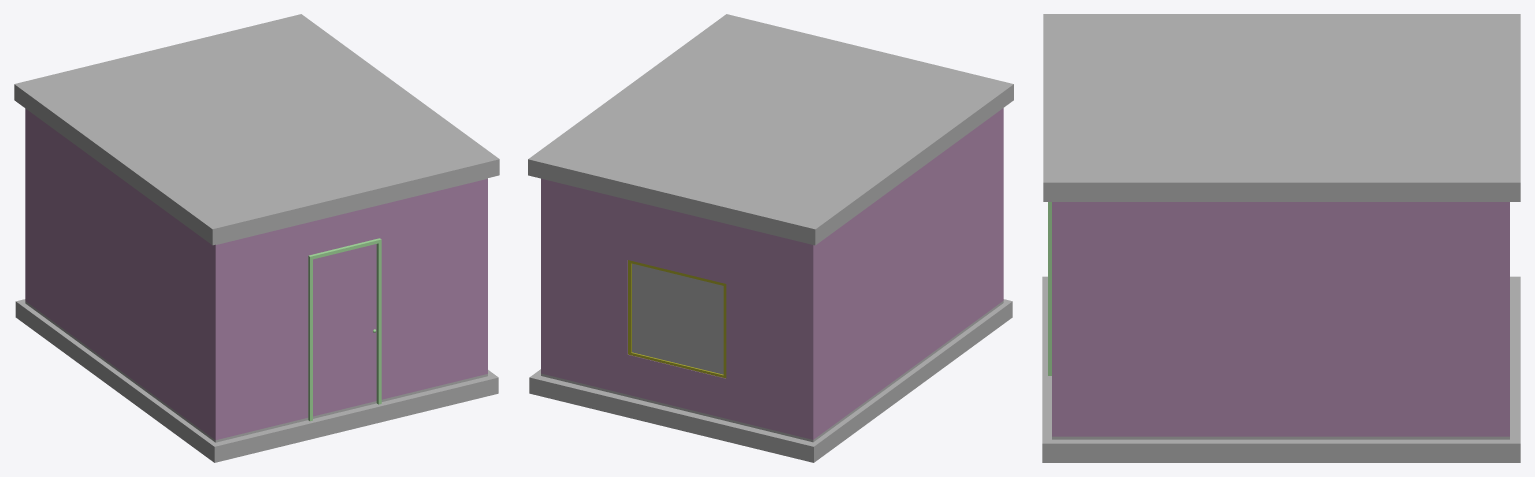
Rendered from FloorPlan305.fbx.
The picture shows the model from 3 angles, left to right: view 1: azimuth 30°, elevation 25°; view 2: azimuth 150°, elevation 25°; view 3: azimuth 270°, elevation 25°; orthographic projection. The views are drawn at different scales.
Parts seen in each view (by area): view 1: StandardWallSize.002, Ceiling.002, Floor.002, StandardDoorFrame1.002; view 2: StandardWallSize.002, Ceiling.002, Floor.002, StandardWindow3.001; view 3: StandardWallSize.002, Ceiling.002, Floor.002, StandardDoorFrame1.002.
Part boxes in pixels (bbox=[...]): StandardWallSize.002: bbox=[25, 108, 487, 442]; Ceiling.002: bbox=[14, 14, 499, 245]; Floor.002: bbox=[15, 299, 498, 462]; StandardDoorFrame1.002: bbox=[308, 238, 381, 421]; StandardWallSize.002: bbox=[541, 108, 1003, 442]; Ceiling.002: bbox=[528, 14, 1013, 245]; Floor.002: bbox=[529, 299, 1012, 462]; StandardWindow3.001: bbox=[628, 260, 726, 378]; StandardWallSize.002: bbox=[1052, 202, 1509, 439]; Ceiling.002: bbox=[1043, 14, 1520, 201]; Floor.002: bbox=[1042, 276, 1520, 462]; StandardDoorFrame1.002: bbox=[1048, 202, 1051, 375].
Bounding box in the file's own units: 373 × 290 × 447.
